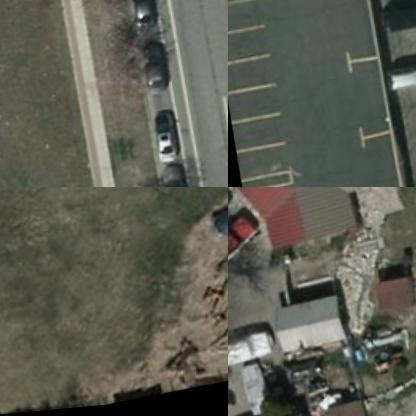car: (228, 214, 261, 278), (374, 0, 415, 38), (150, 113, 178, 167), (139, 41, 167, 95), (130, 0, 160, 42), (381, 64, 415, 96), (207, 195, 227, 248), (154, 168, 188, 186)
